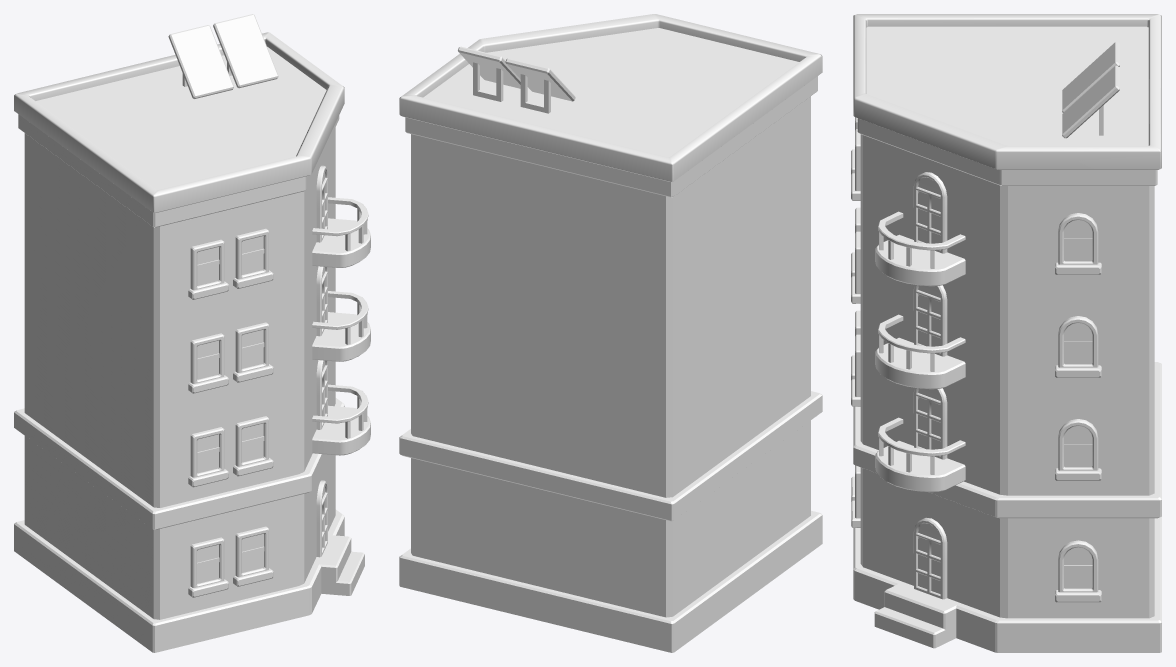
Rendered from House_14.fbx.
3 views of the same model, side by side, from view 1: azimuth 30°, elevation 25°; view 2: azimuth 150°, elevation 25°; view 3: azimuth 270°, elevation 25° (orthographic). The views are drawn at different scales.
Parts seen in each view (by area): view 1: House_14; view 2: House_14; view 3: House_14.
Boxes of the visible parts, left/top/right/bottom form: House_14: left=14, top=14, right=370, bottom=652; House_14: left=399, top=14, right=822, bottom=652; House_14: left=851, top=14, right=1161, bottom=652.
Bounding box in the file's own units: 576 × 1062 × 547.
